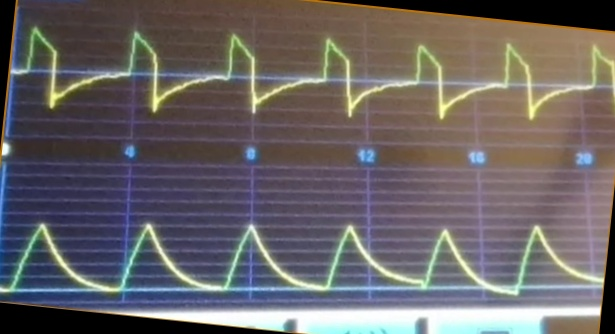Normal Flow: (15, 23, 615, 128)
Normal Volume: (2, 210, 601, 302)
